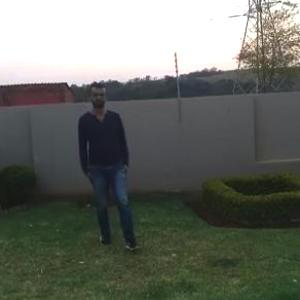follow: (76, 81, 132, 251)
